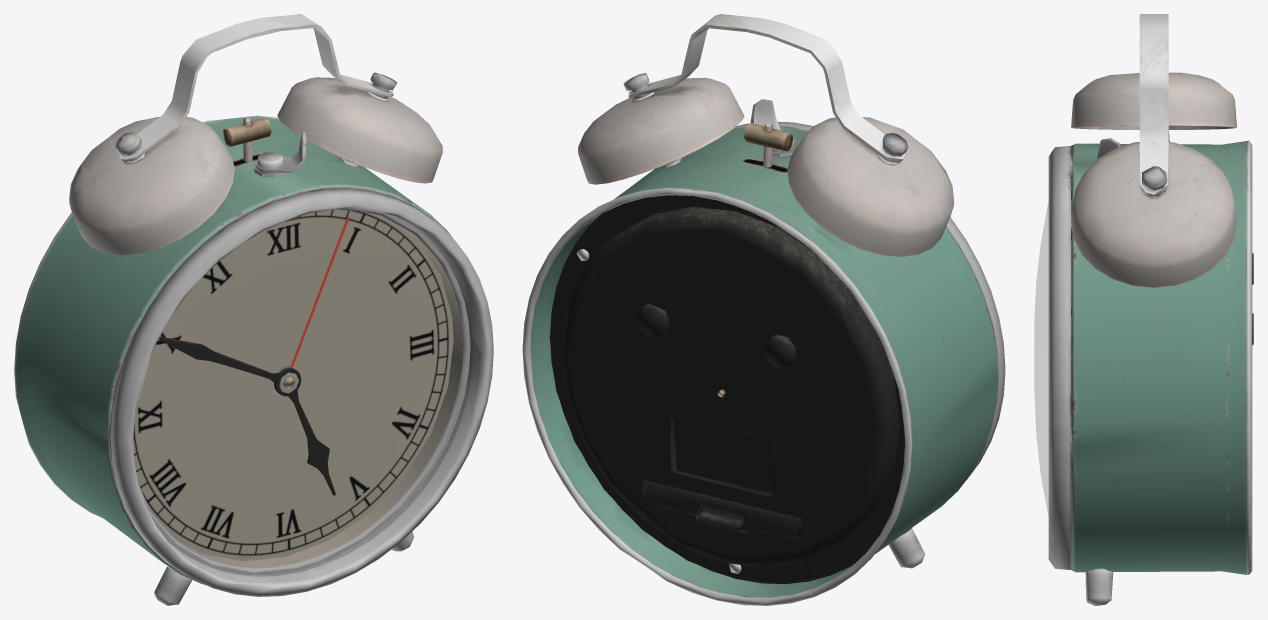
Rendered from alarm_clock.glb.
The picture shows the model from 3 angles, left to right: view 1: azimuth 30°, elevation 25°; view 2: azimuth 150°, elevation 25°; view 3: azimuth 270°, elevation 25°; orthographic projection. The views are drawn at different scales.
Visible parts, largest first — view 1: alarm_clock_01, houd_hand, minute_hand; view 2: alarm_clock_01; view 3: alarm_clock_01.
Boxes of the visible parts, <box> form: alarm_clock_01: <box>14,14,493,605</box>; houd_hand: <box>275,368,335,495</box>; minute_hand: <box>159,336,294,392</box>; alarm_clock_01: <box>522,14,1005,605</box>; alarm_clock_01: <box>1034,14,1253,605</box>.
Size of the model in its own units: 0.1316 by 0.1741 by 0.0662.
Materials: 2 (1 with a texture image).
